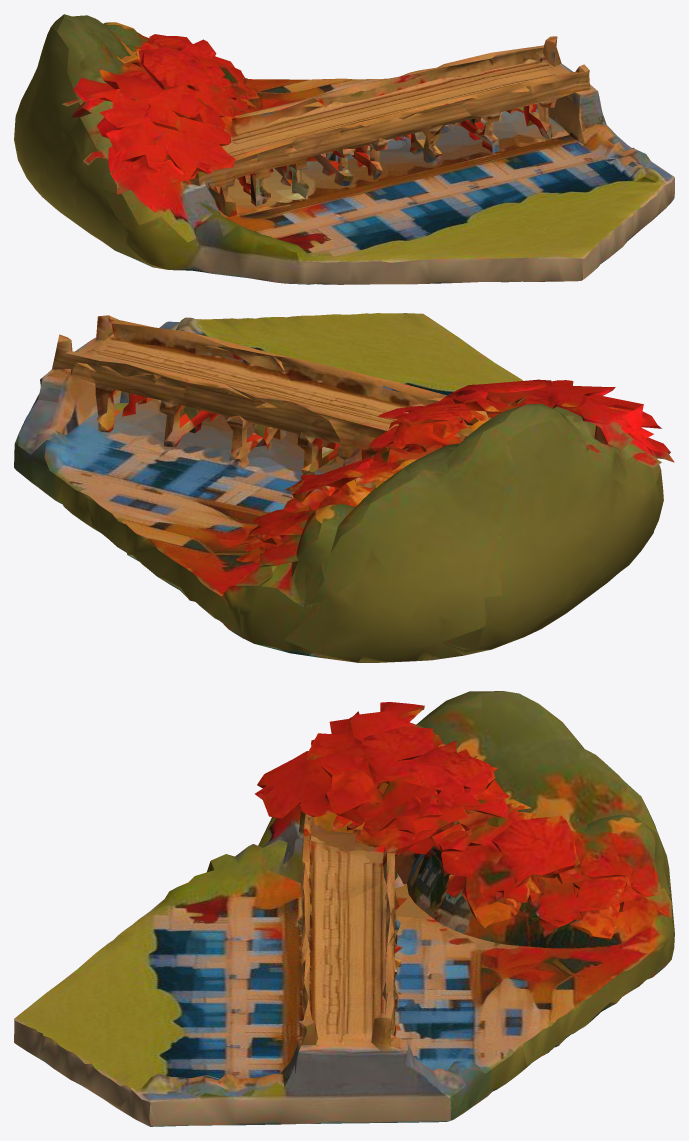
File: togetsukyo.glb
The picture shows the model from 3 angles, top to bottom: view 1: azimuth 30°, elevation 25°; view 2: azimuth 150°, elevation 25°; view 3: azimuth 270°, elevation 25°; orthographic projection. The views are drawn at different scales.
Parts seen in each view (by area): view 1: logan-textured.obj; view 2: logan-textured.obj; view 3: logan-textured.obj.
Part boxes in pixels (bbox=[...]): logan-textured.obj: bbox=[14, 14, 674, 284]; logan-textured.obj: bbox=[14, 313, 674, 662]; logan-textured.obj: bbox=[14, 691, 674, 1126].
Size of the model in its own units: 0.9773 by 0.324 by 1.
Materials: 1 (1 with a texture image).
